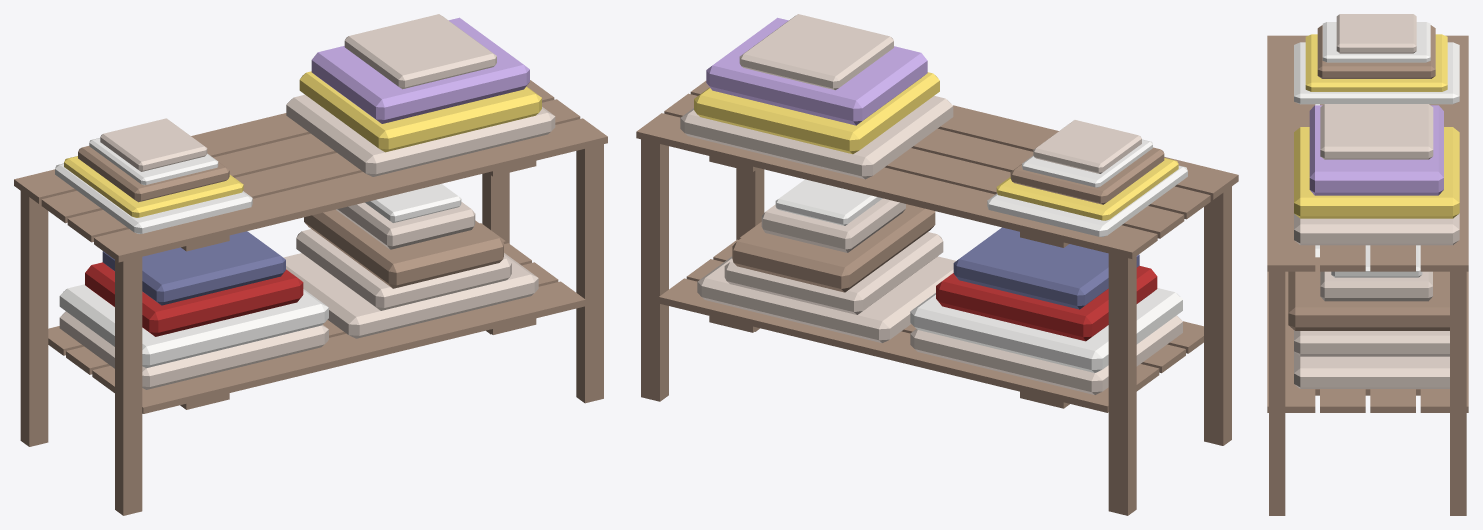
File: Laundry_shelf_with_things_2.fbx
3 views of the same model, side by side, from view 1: azimuth 30°, elevation 25°; view 2: azimuth 150°, elevation 25°; view 3: azimuth 270°, elevation 25° (orthographic). The views are drawn at different scales.
Visible parts, largest first — view 1: Laundry_shelf_with_things_2; view 2: Laundry_shelf_with_things_2; view 3: Laundry_shelf_with_things_2.
Part boxes in pixels (left/top/right/bottom): Laundry_shelf_with_things_2: left=14, top=14, right=607, bottom=515; Laundry_shelf_with_things_2: left=636, top=14, right=1238, bottom=515; Laundry_shelf_with_things_2: left=1267, top=14, right=1468, bottom=515.
Bounding box in the file's own units: 171 × 63.32 × 115.
